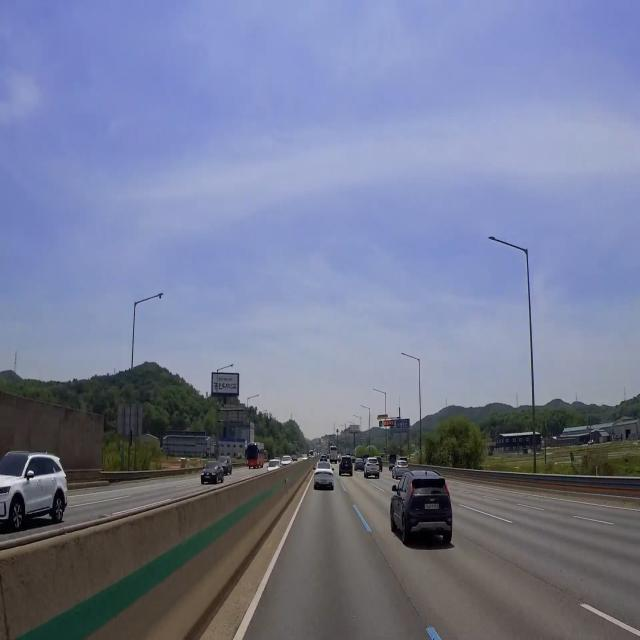car: (423, 498, 441, 514), (317, 478, 331, 489)
